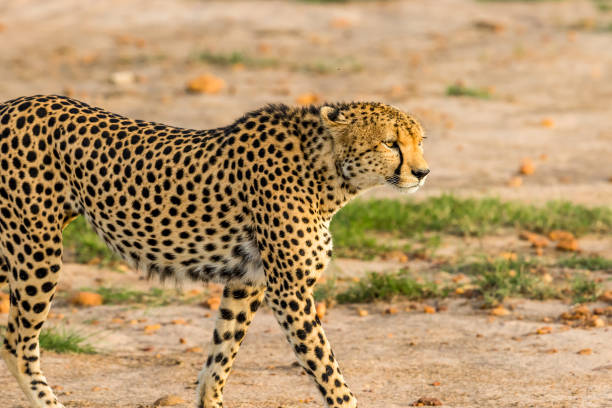cheetah: (311, 86, 437, 204)
